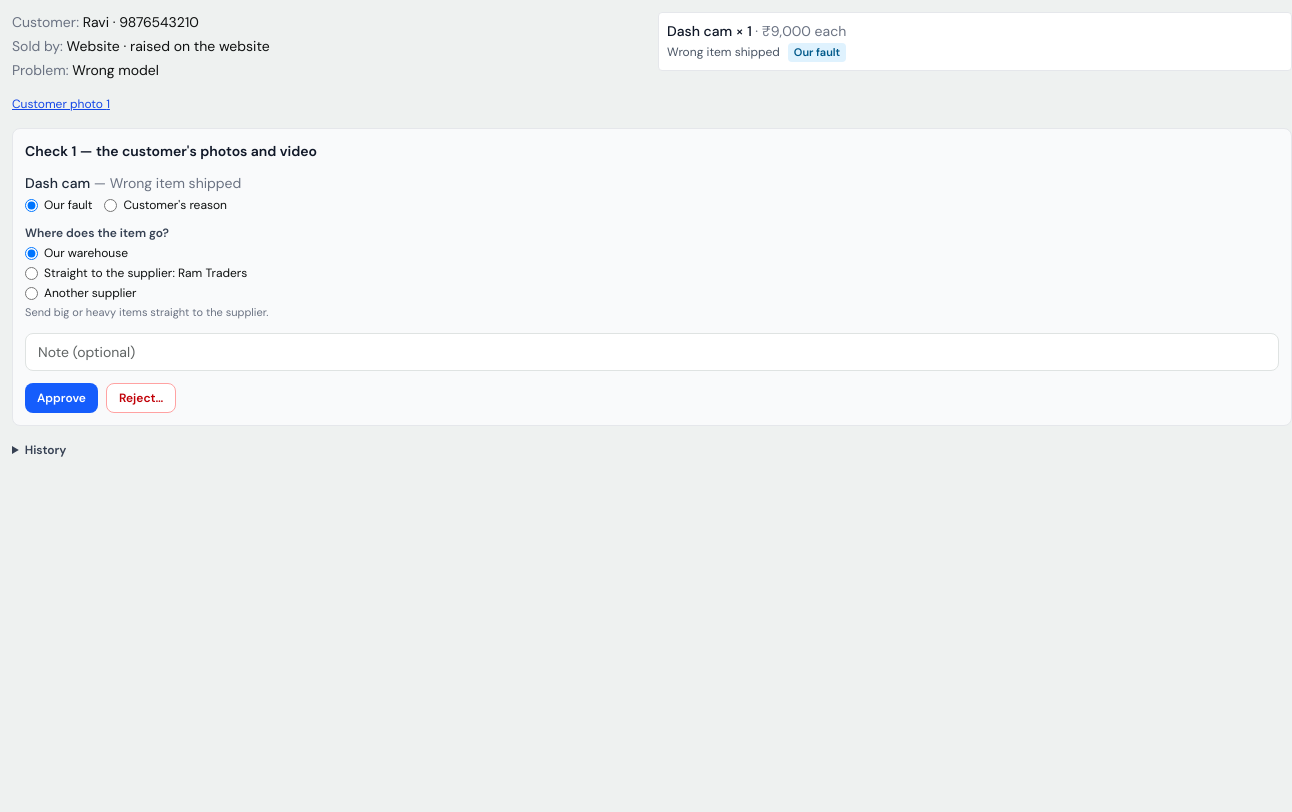
Test: check 1 › asks why when the fault is changed, and needs a reason to reject
What coordinates should you click on to do the following:
click the radio button labelled "Customer's reason"
I would click on:
 (111, 205)
Its box is [104,198,117,212].
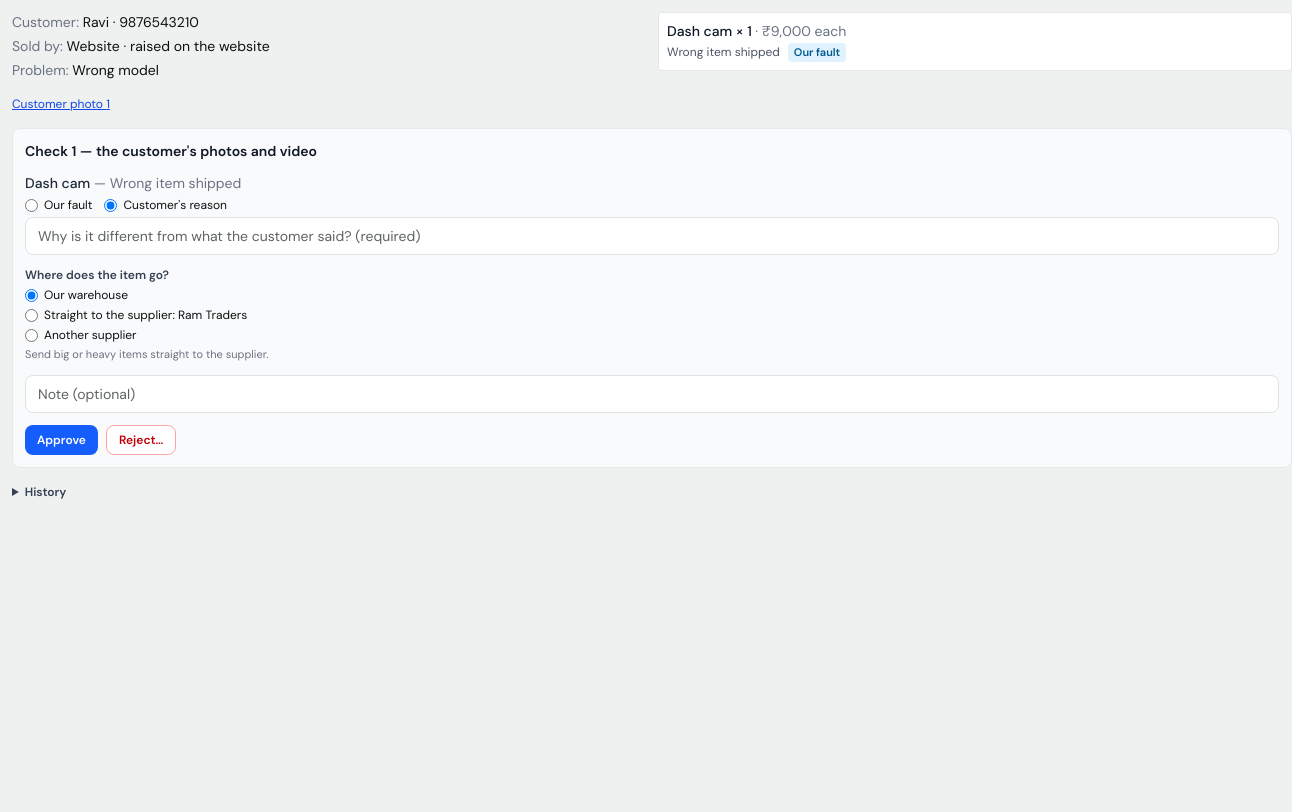
Check: the field with placeholder "Why is it different from what the customer said? (required)" is shown, box [25,217,1279,255]
What coordinates should you click on to do the following:
click the button "Reject…"
I would click on:
 (141, 440)
Its box is [106,425,176,455].
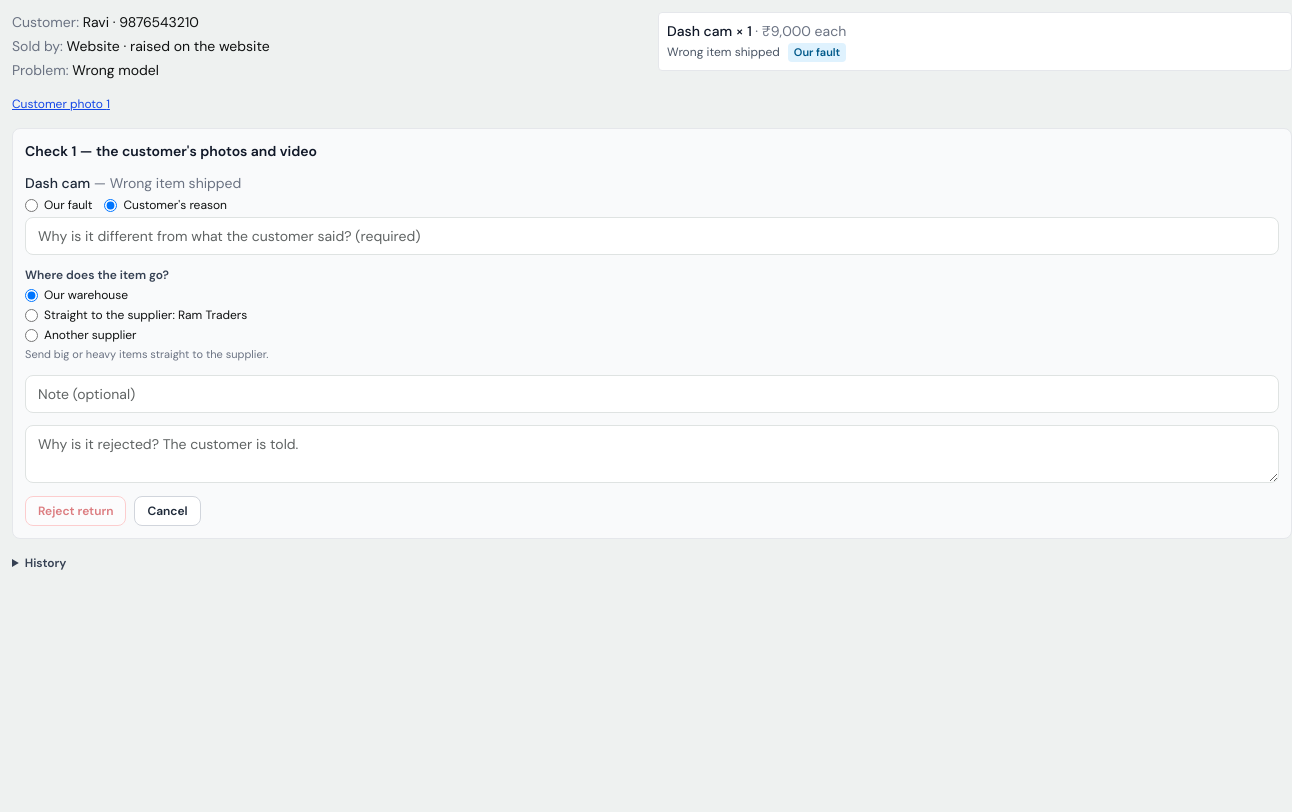
Check: the button "Reject return" is disabled, box [25,496,126,526]
